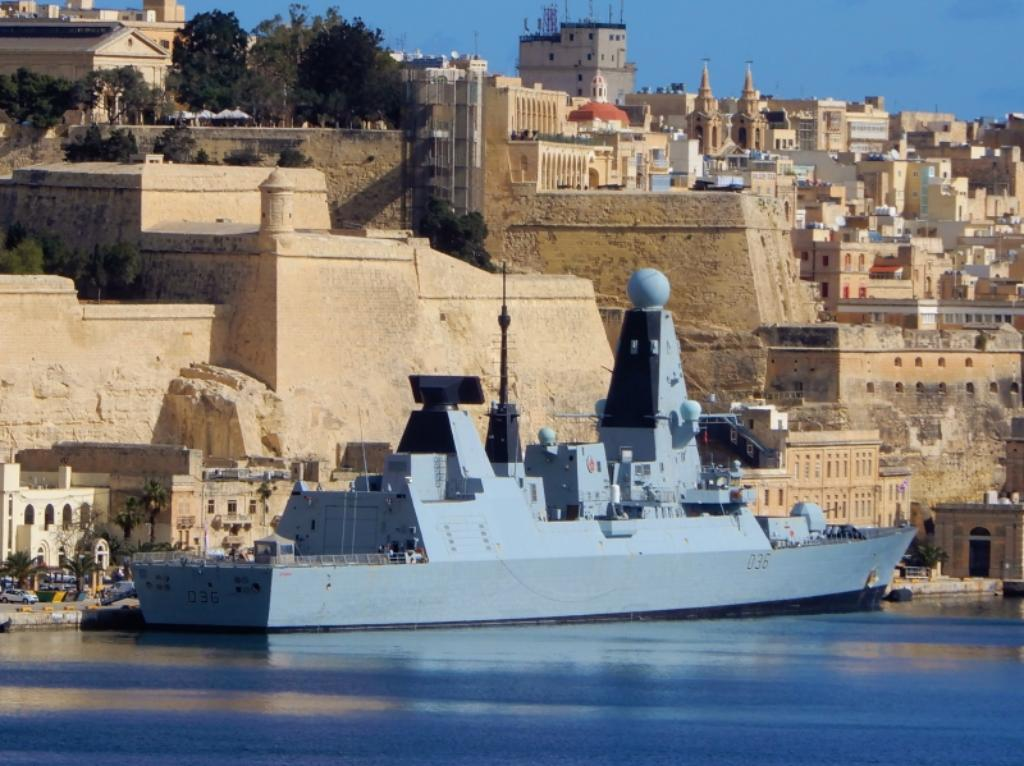Warship: (126, 260, 926, 640)
